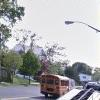Bus: (37, 70, 77, 98)
